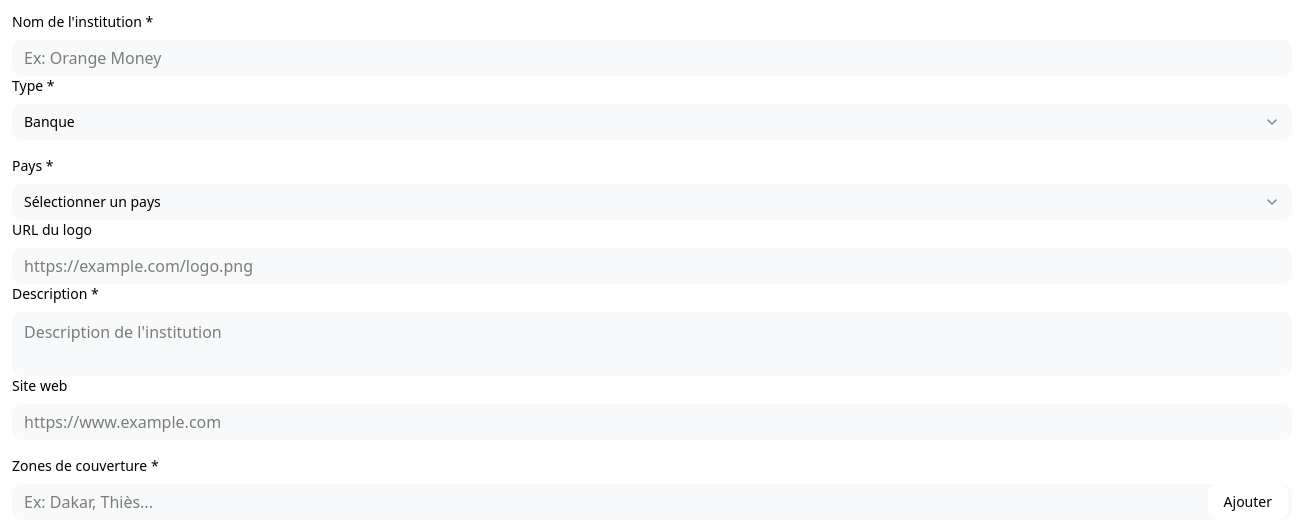
Test: InstitutionFormFields (interactive) › Compact variant sans étapes (EditInstitutionModal) › allows selecting type and pays in compact variant
The width and height of the screenshot is (1304, 528).
Select type
Click the button "Banque" at (49, 122), box top-left (12, 104), bottom-right (1292, 140)
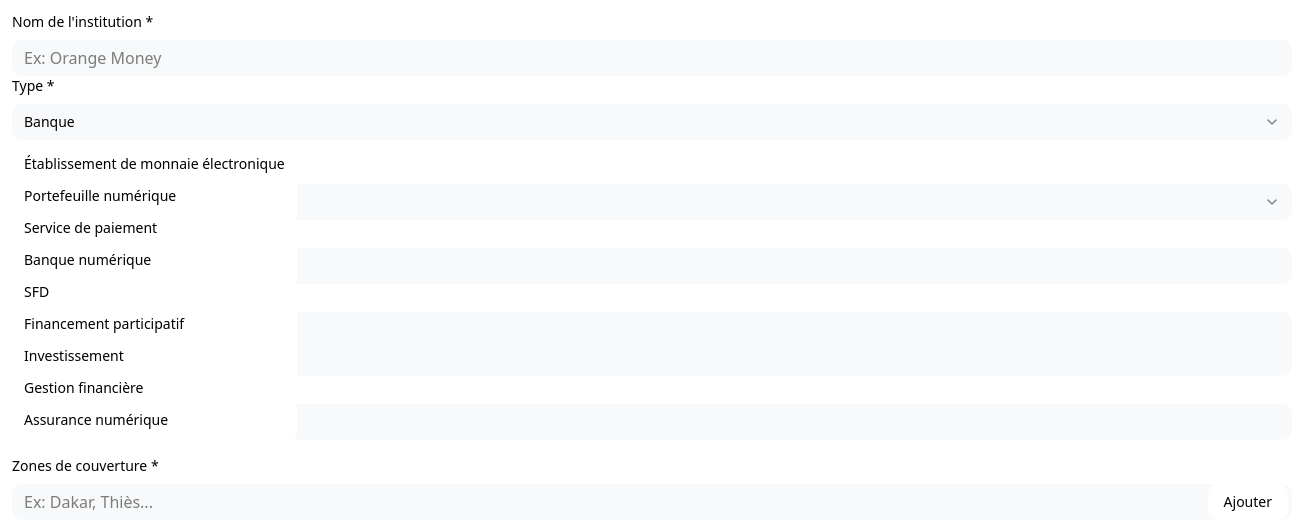
Click the menu item "Banque numérique" at (88, 260), box top-left (24, 250), bottom-right (151, 269)
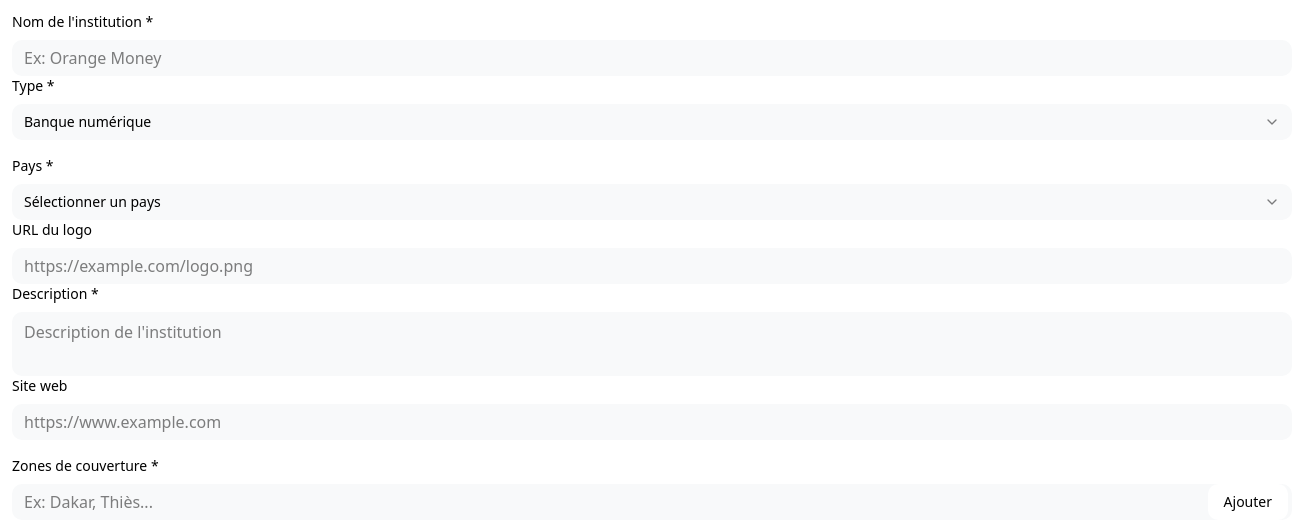
Expected: the button "Banque numérique" is shown, top-left (12, 104), bottom-right (1292, 140)
Click the button "Sélectionner un pays" at (92, 202), box top-left (12, 184), bottom-right (1292, 220)
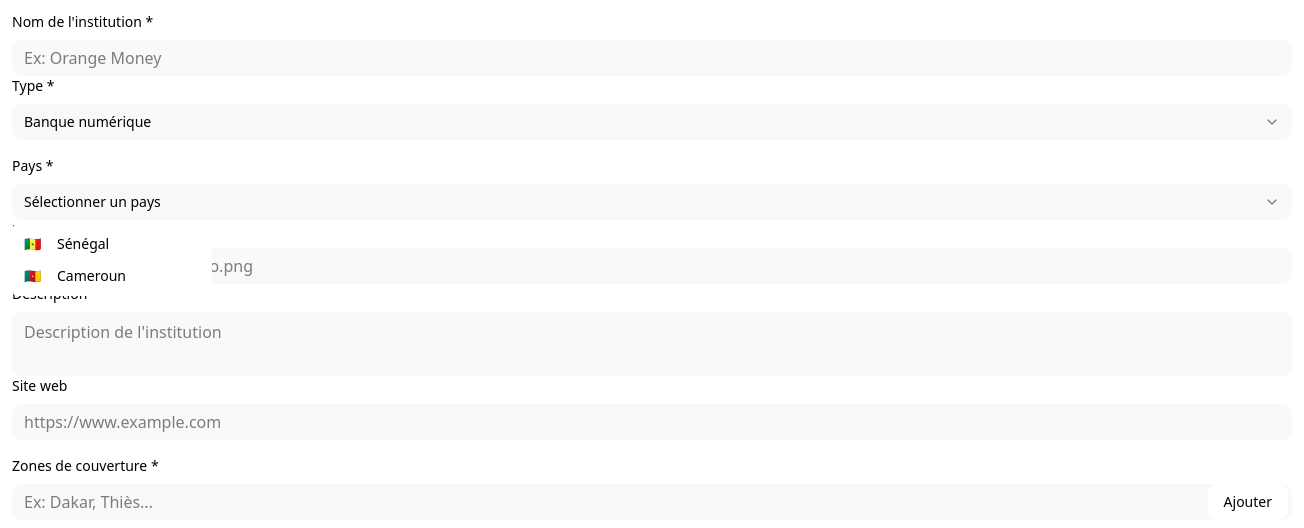
Click the menu item "🇸🇳 Sénégal" at (67, 244), box top-left (24, 234), bottom-right (109, 253)
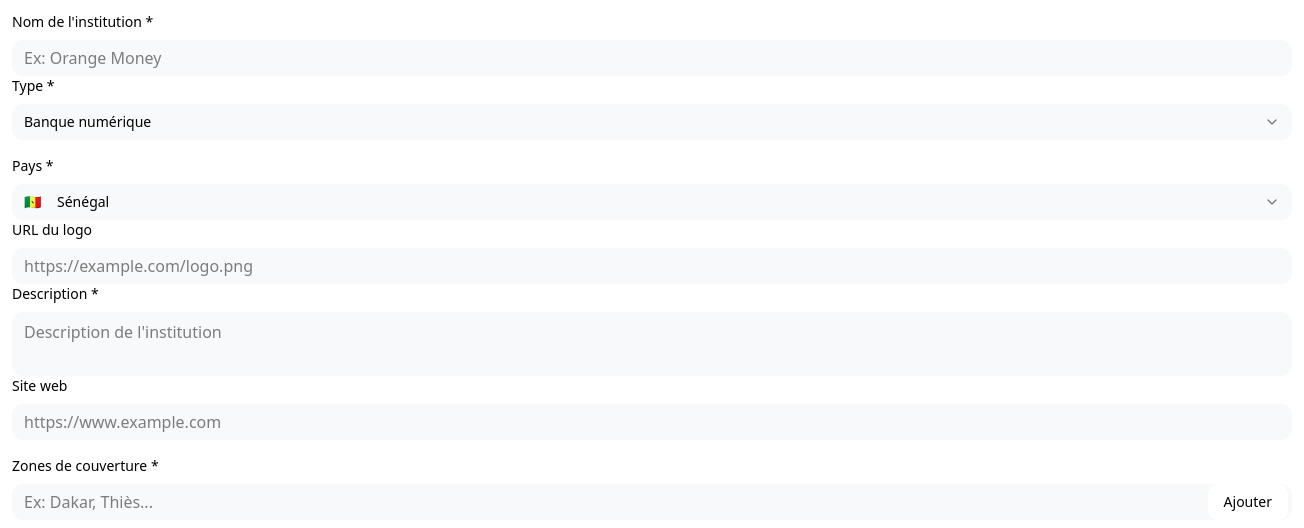
Expected: the button "🇸🇳 Sénégal" is shown, top-left (12, 184), bottom-right (1292, 220)
